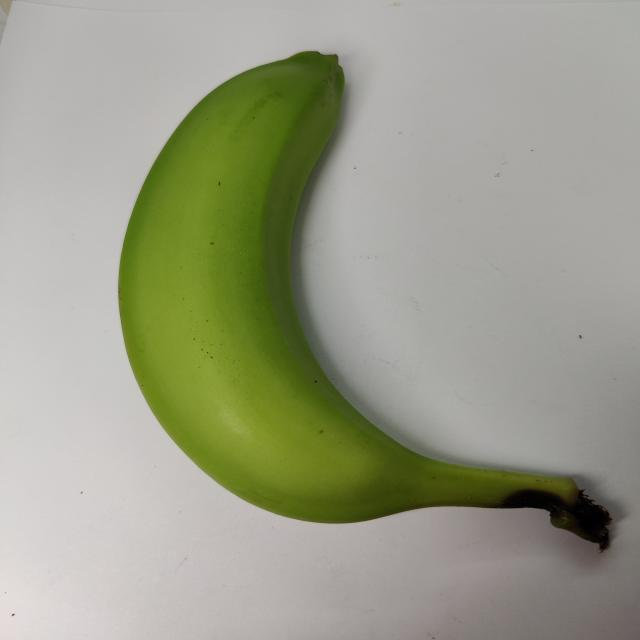raw: (93, 34, 640, 580)
